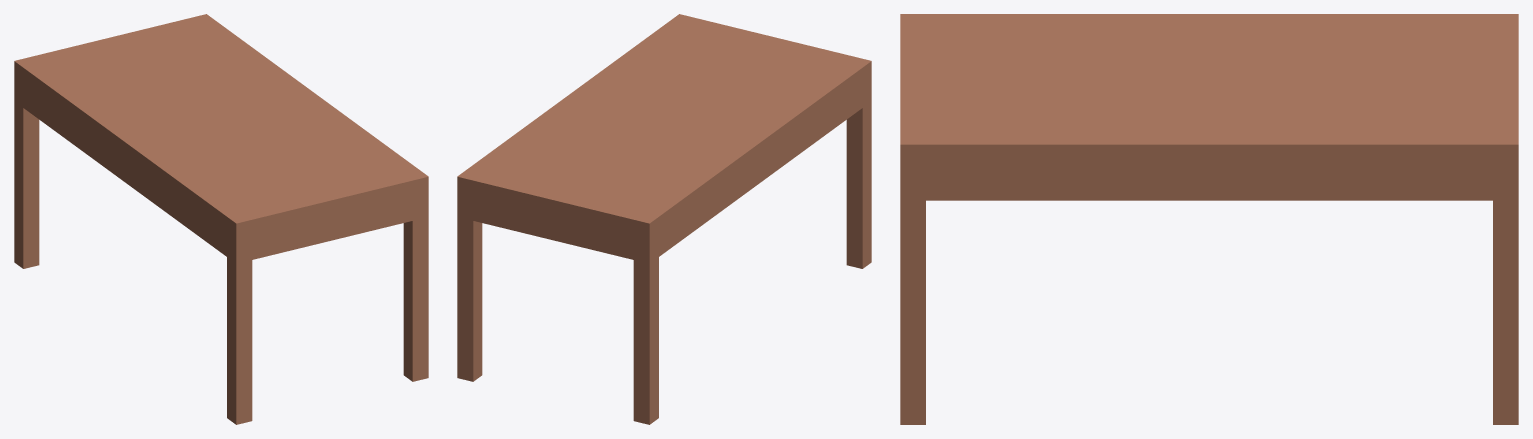
Rendered from masa_uzun.fbx.
The picture shows the model from 3 angles, left to right: view 1: azimuth 30°, elevation 25°; view 2: azimuth 150°, elevation 25°; view 3: azimuth 270°, elevation 25°; orthographic projection. The views are drawn at different scales.
Parts seen in each view (by area): view 1: masa; view 2: masa; view 3: masa.
Boxes of the visible parts, x1,y1,x2,y2 form: masa: [14, 14, 428, 424]; masa: [457, 14, 871, 424]; masa: [900, 14, 1518, 424].
Bounding box in the file's own units: 1 × 1 × 2.
